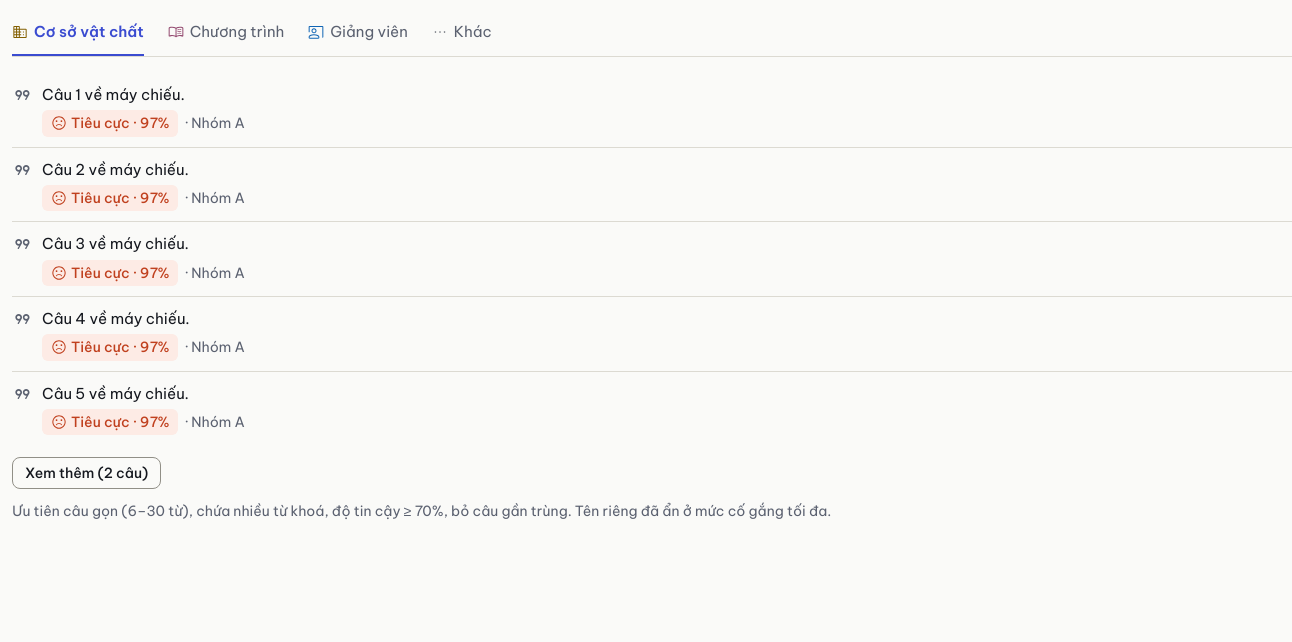
RepresentativeSentences › chỉ hiện 5 câu rồi cho xem thêm
The image size is (1292, 642).
Expected: the number of list items is 5, [12, 73, 1291, 148]; [12, 148, 1291, 222]; [12, 222, 1291, 297]; [12, 297, 1291, 372]; [12, 384, 245, 435]
Step 1. Click the button "Xem thêm (2 câu)" → point(87, 473), box [12, 457, 161, 489]
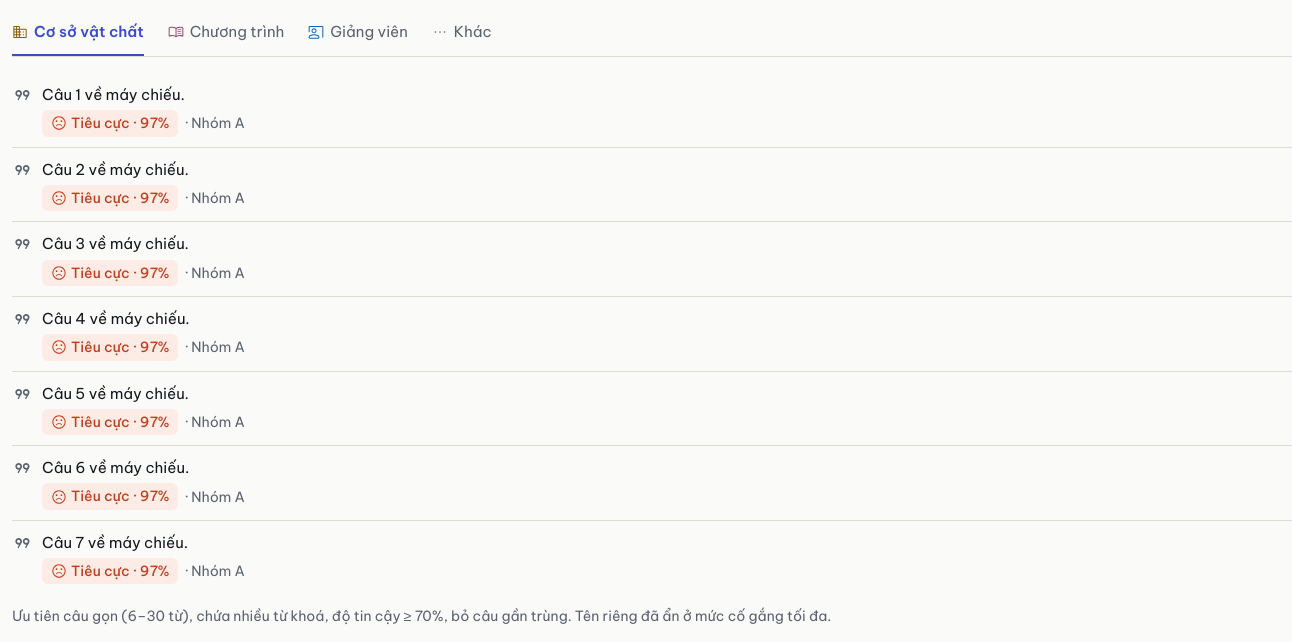
Expected: the number of list items is 7
Expected: the button "Xem thêm" is gone
